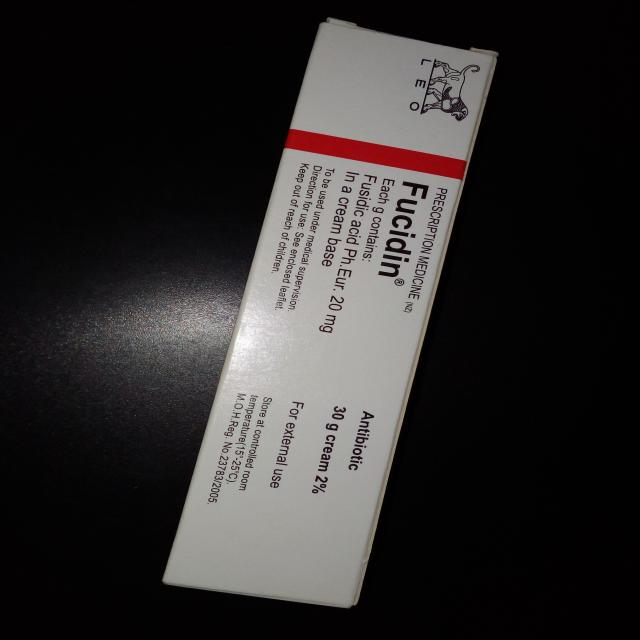Medicine: (164, 18, 502, 608)
